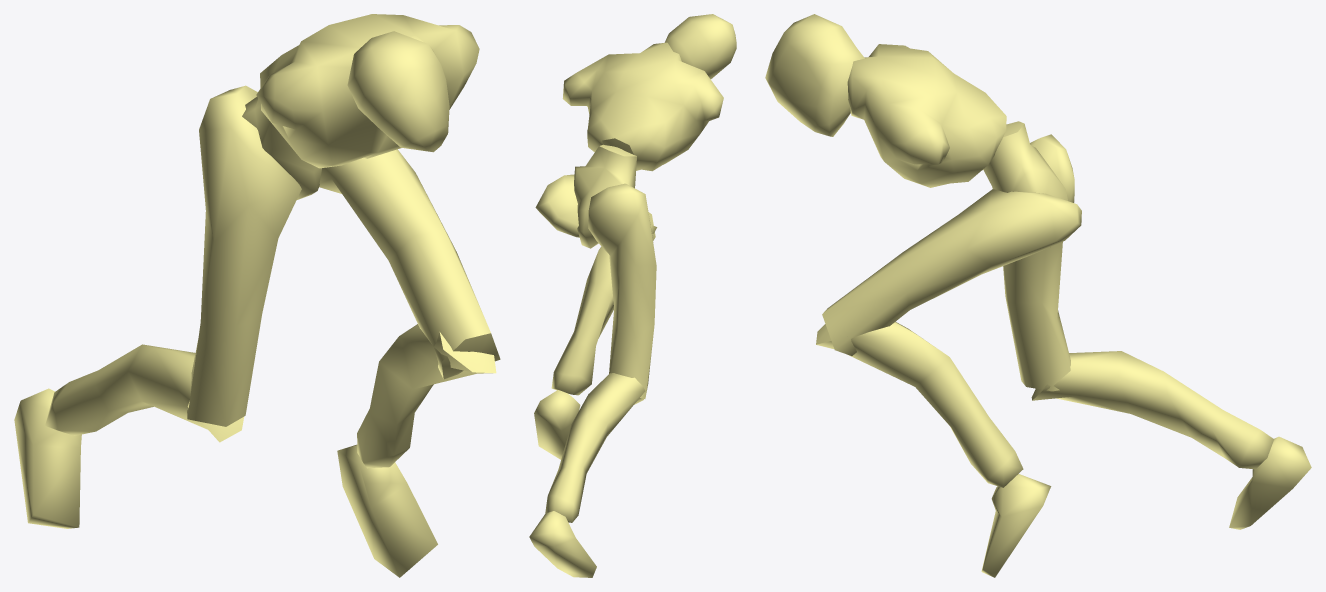
File: filth12.obj
The picture shows the model from 3 angles, left to right: view 1: azimuth 30°, elevation 25°; view 2: azimuth 150°, elevation 25°; view 3: azimuth 270°, elevation 25°; orthographic projection. The views are drawn at different scales.
Parts seen in each view (by area): view 1: Melee_Husk; view 2: Melee_Husk; view 3: Melee_Husk.
Boxes of the visible parts, box(x1,y1,x2,y2) form: Melee_Husk: box(14, 14, 500, 577); Melee_Husk: box(529, 14, 736, 577); Melee_Husk: box(765, 14, 1311, 577).
Size of the model in its own units: 22.09 by 57.61 by 53.89.
